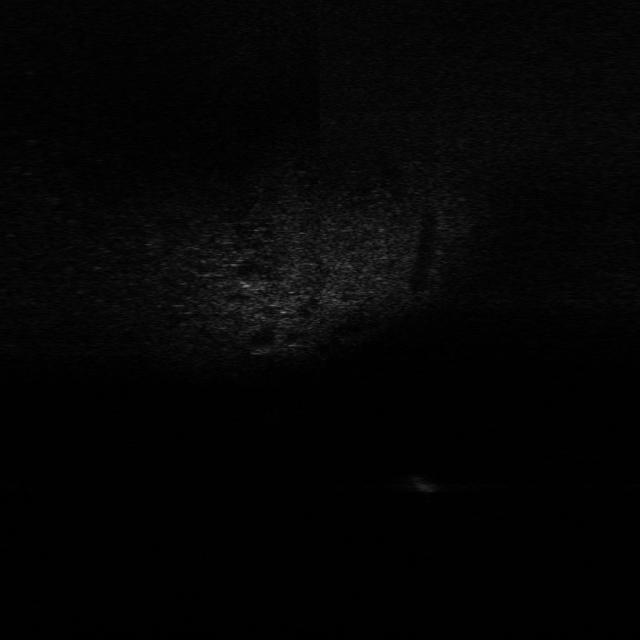cylinder: (403, 468, 438, 496)
